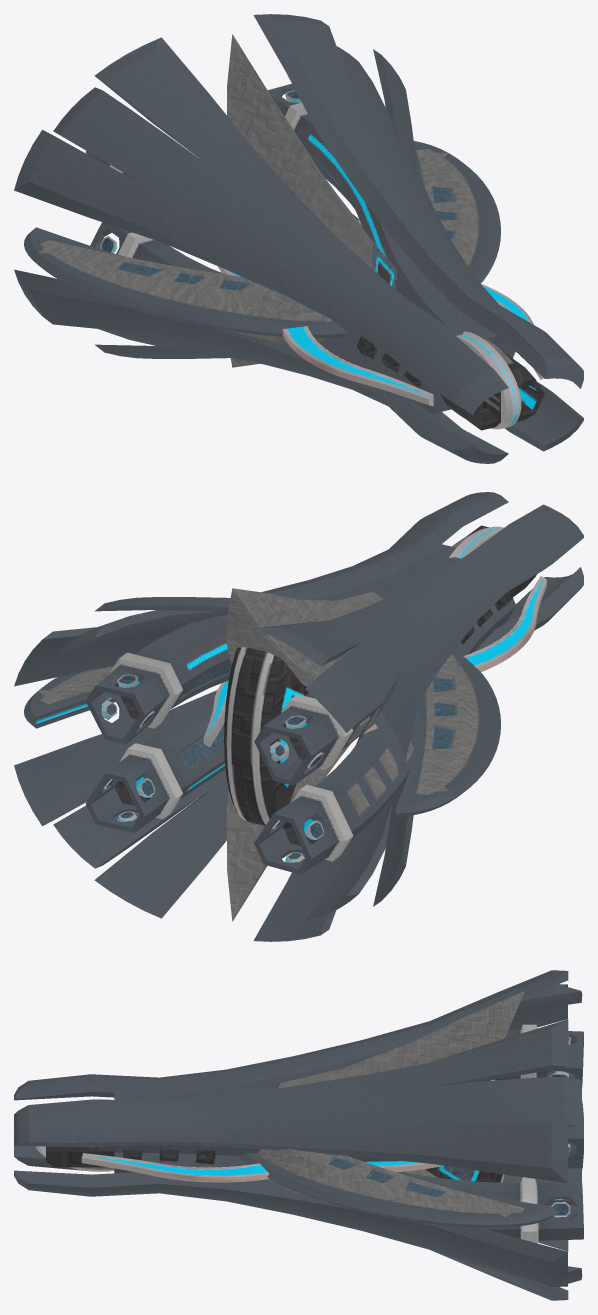
File: certitude.gltf
3 renders of one model, top to bottom at view 1: azimuth 30°, elevation 25°; view 2: azimuth 150°, elevation 25°; view 3: azimuth 270°, elevation 25°, orthographic. The views are drawn at different scales.
Visible parts, largest first — view 1: base; view 2: base; view 3: base.
Boxes of the visible parts, x1,y1,x2,y2 form: base: (14, 14, 583, 463); base: (14, 492, 583, 941); base: (14, 970, 583, 1300).
Bounding box in the file's own units: 5.57 × 4.2 × 7.49.
1 material, 1 textured.
